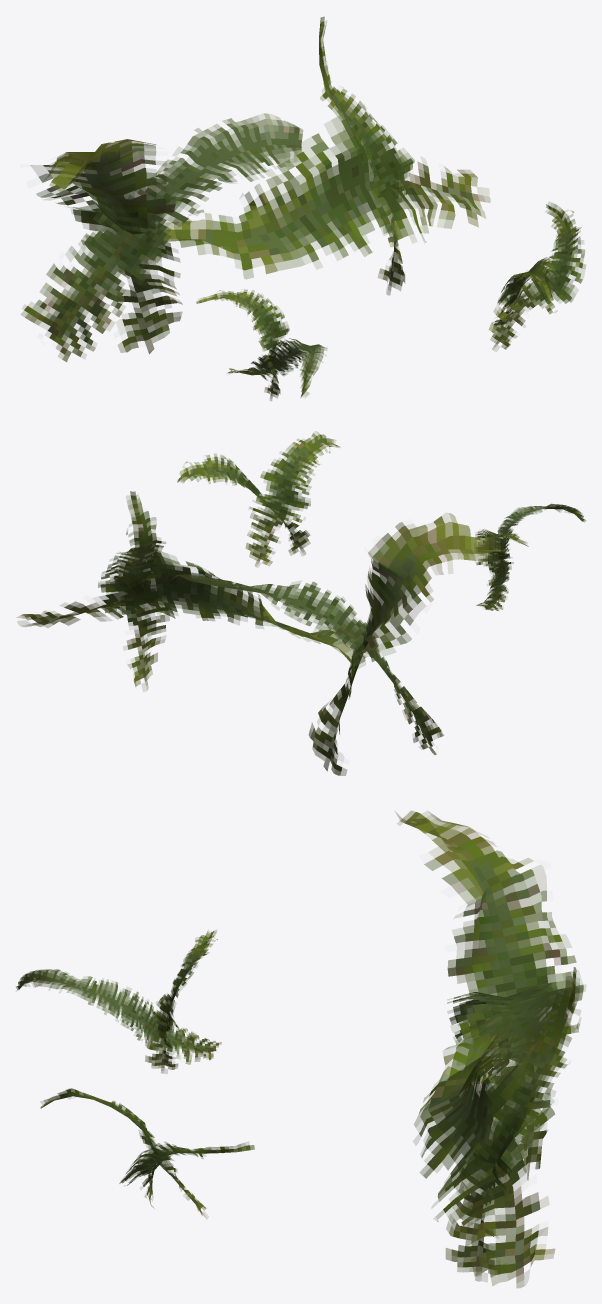
File: fern_02.glb
The picture shows the model from 3 angles, top to bottom: view 1: azimuth 30°, elevation 25°; view 2: azimuth 150°, elevation 25°; view 3: azimuth 270°, elevation 25°; orthographic projection. The views are drawn at different scales.
Parts seen in each view (by area): view 1: fern_02_b, fern_02_c, fern_02_d, fern_02_a; view 2: fern_02_b, fern_02_c, fern_02_d, fern_02_a; view 3: fern_02_c, fern_02_b, fern_02_a, fern_02_d.
Part boxes in pixels (x1,y1,x2,y2): fern_02_b: [20, 113, 302, 361]; fern_02_c: [163, 16, 490, 295]; fern_02_d: [489, 202, 585, 351]; fern_02_a: [196, 289, 327, 400]; fern_02_b: [171, 513, 506, 775]; fern_02_c: [16, 491, 354, 691]; fern_02_d: [177, 431, 340, 566]; fern_02_a: [475, 503, 585, 610]; fern_02_c: [413, 967, 580, 1287]; fern_02_b: [395, 810, 585, 1180]; fern_02_a: [16, 930, 221, 1073]; fern_02_d: [40, 1088, 254, 1218].
Size of the model in its own units: 2.01 by 1.08 by 1.71.
1 material, 1 textured.
